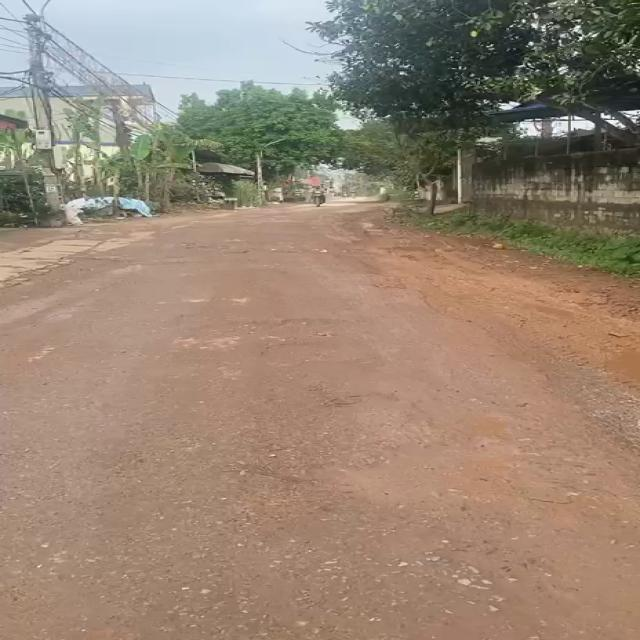Pothole: (0, 219, 159, 301)
